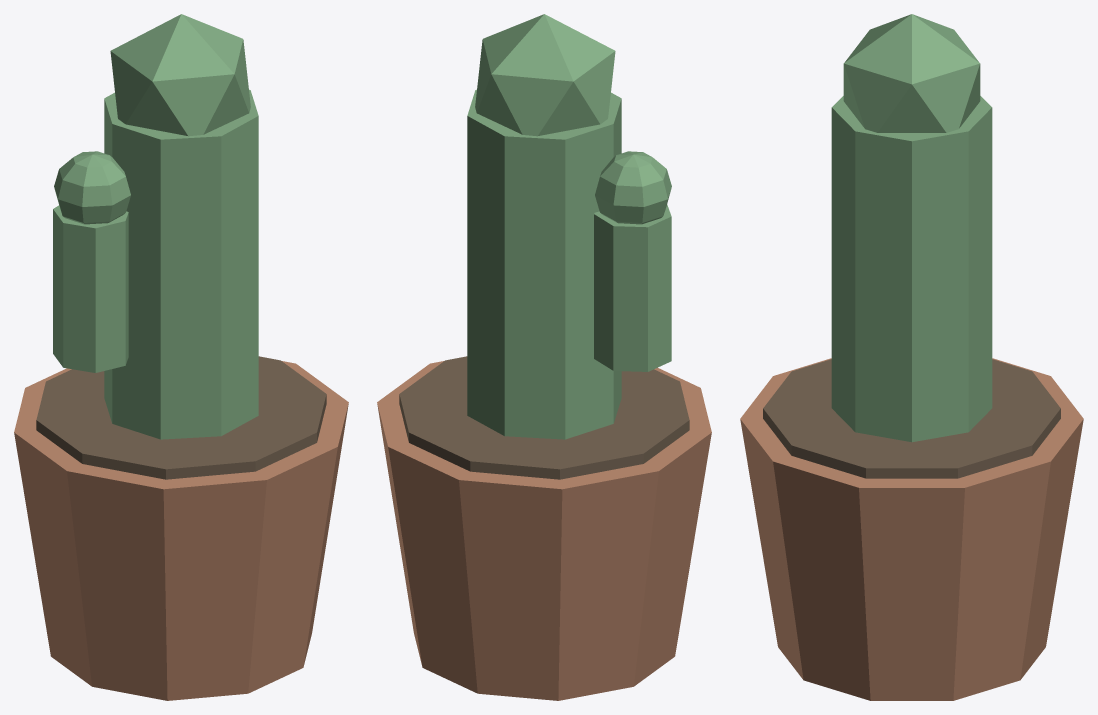
Rendered from pla_cacto_sala2.glb.
The picture shows the model from 3 angles, left to right: view 1: azimuth 30°, elevation 25°; view 2: azimuth 150°, elevation 25°; view 3: azimuth 270°, elevation 25°; orthographic projection.
Parts seen in each view (by area): view 1: PLA_CACTO_SALA2_v01; view 2: PLA_CACTO_SALA2_v01; view 3: PLA_CACTO_SALA2_v01.
Part boxes in pixels (x1,y1,x2,y2): PLA_CACTO_SALA2_v01: [14, 14, 348, 700]; PLA_CACTO_SALA2_v01: [377, 14, 711, 700]; PLA_CACTO_SALA2_v01: [740, 14, 1083, 700].
Bounding box in the file's own units: 0.2853 × 0.61 × 0.3.
